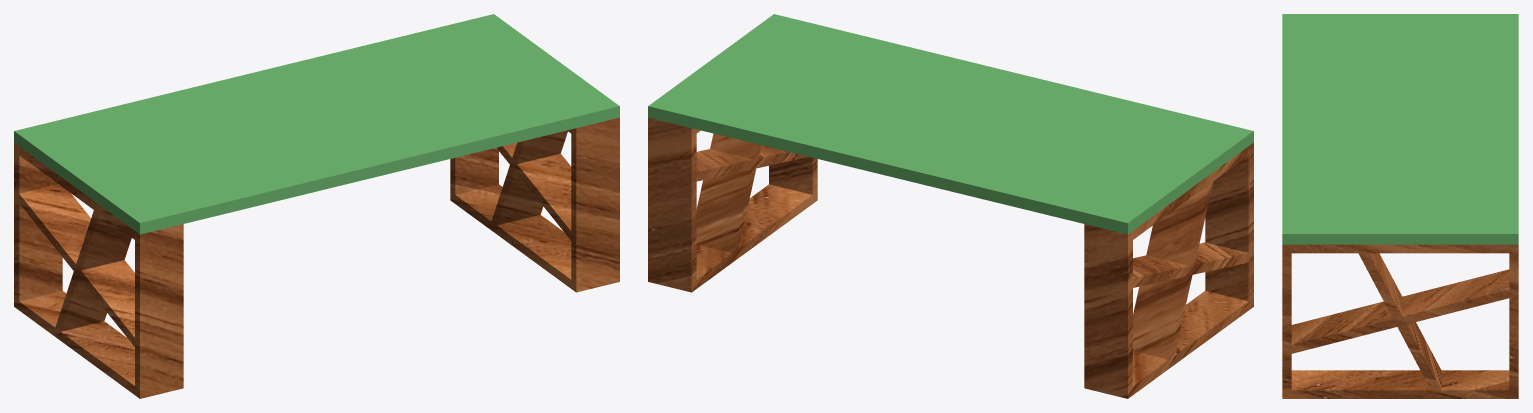
The model's file is coffeetable.gltf.
3 views of the same model, side by side, from view 1: azimuth 30°, elevation 25°; view 2: azimuth 150°, elevation 25°; view 3: azimuth 270°, elevation 25° (orthographic). The views are drawn at different scales.
Visible parts, largest first — view 1: green glass, green glass_clonedChild, Walnut leg; view 2: green glass, green glass_clonedChild, Walnut leg; view 3: green glass, green glass_clonedChild, Walnut leg.
Boxes of the visible parts, x1,y1,x2,y2 form: green glass: [14, 14, 619, 234]; green glass_clonedChild: [14, 14, 619, 234]; Walnut leg: [14, 117, 619, 398]; green glass: [648, 14, 1253, 234]; green glass_clonedChild: [648, 14, 1253, 234]; Walnut leg: [648, 117, 1253, 398]; green glass: [1282, 14, 1518, 244]; green glass_clonedChild: [1282, 14, 1518, 244]; Walnut leg: [1282, 244, 1518, 398].
Size of the model in its own units: 1.1 by 0.385 by 0.5001.
3 materials, 1 textured.
